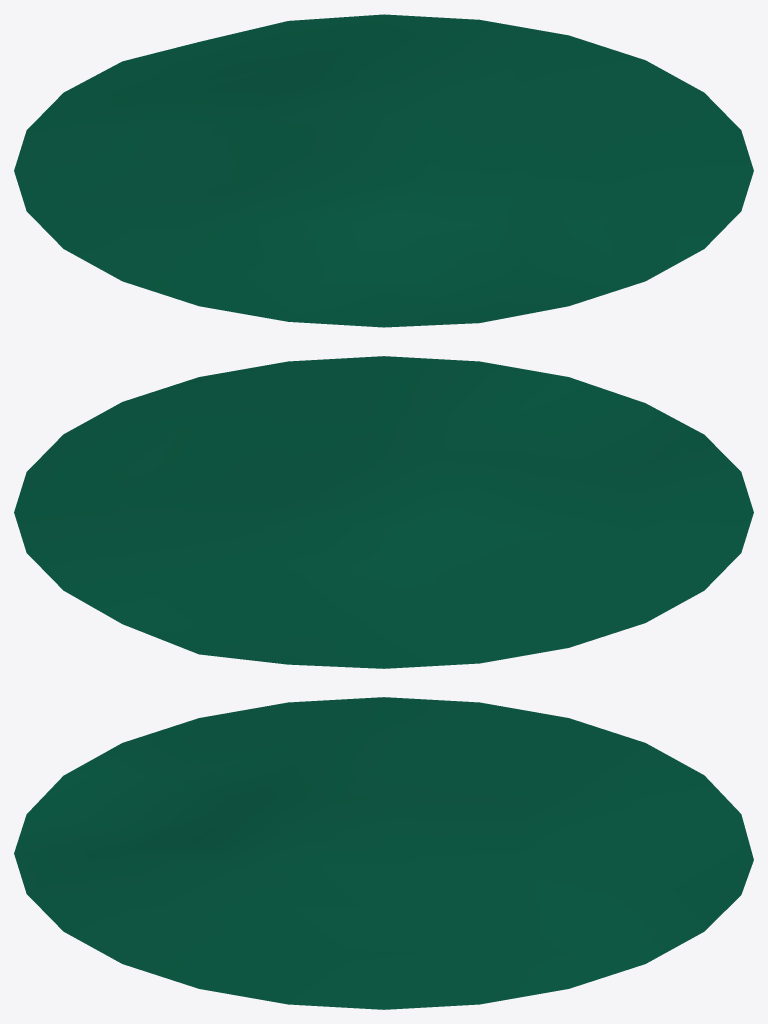
Rendered from bin_thrash.fbx.
The picture shows the model from 3 angles, top to bottom: view 1: azimuth 30°, elevation 25°; view 2: azimuth 150°, elevation 25°; view 3: azimuth 270°, elevation 25°; orthographic projection.
Parts seen in each view (by area): view 1: bin_thrash; view 2: bin_thrash; view 3: bin_thrash.
Boxes of the visible parts, bbox=[...] form: bin_thrash: bbox=[14, 14, 753, 327]; bin_thrash: bbox=[14, 356, 753, 668]; bin_thrash: bbox=[14, 697, 753, 1009].
Size of what is drawn, in the model's own units: 39.66 by 2.33 by 39.66.
1 material, 1 textured.
